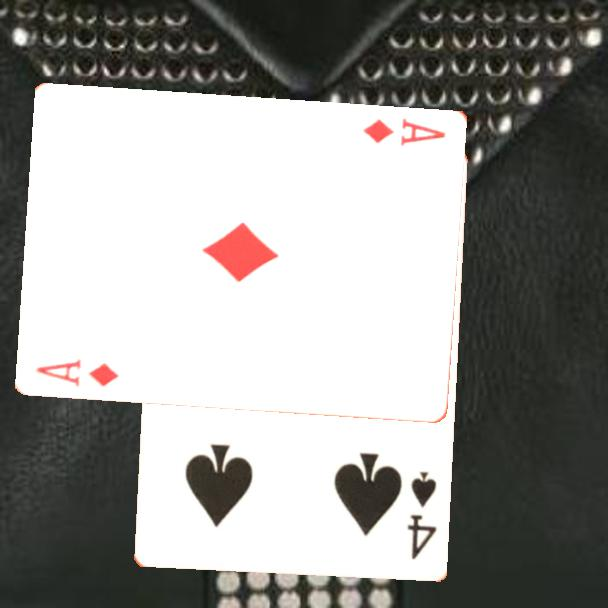d01: (359, 114, 448, 149), (32, 355, 121, 389)
s04: (403, 467, 439, 562)
